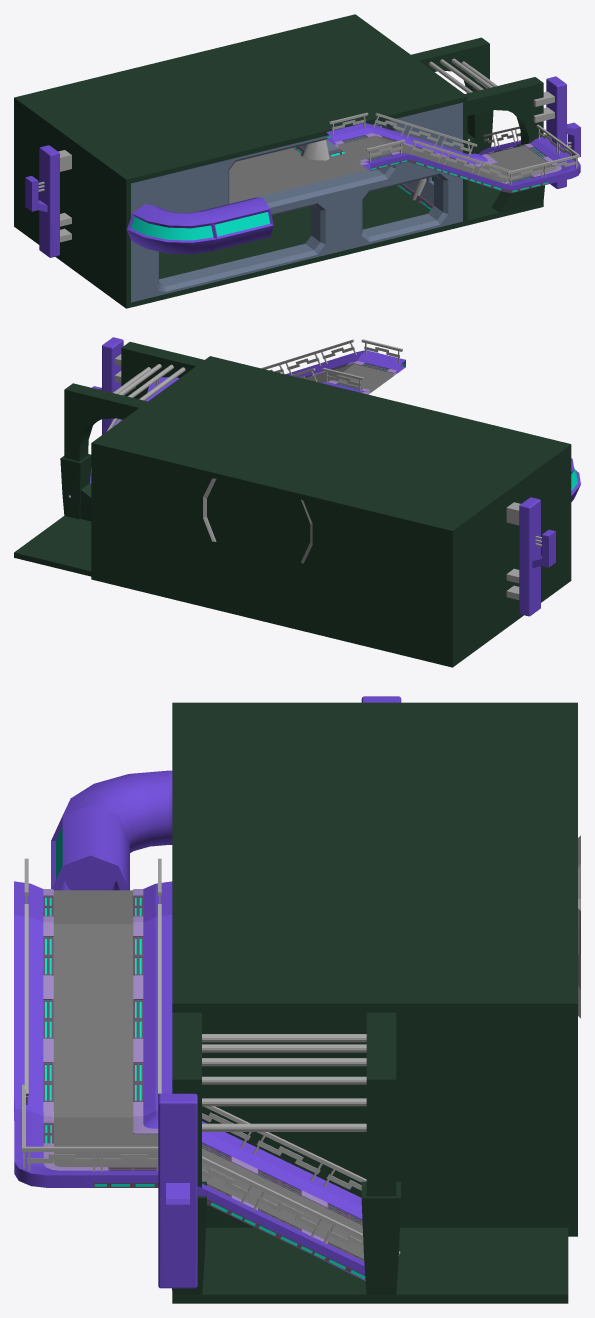
Rendered from Hallway_UV.fbx.
The picture shows the model from 3 angles, top to bottom: view 1: azimuth 30°, elevation 25°; view 2: azimuth 150°, elevation 25°; view 3: azimuth 270°, elevation 25°; orthographic projection. The views are drawn at different scales.
Parts seen in each view (by area): view 1: Hallway_UV; view 2: Hallway_UV; view 3: Hallway_UV.
Boxes of the visible parts, x1,y1,x2,y2 form: Hallway_UV: (14,14,580,308); Hallway_UV: (14,337,580,667); Hallway_UV: (14,696,580,1303).
Size of the model in its own units: 25.98 by 7.06 by 14.33.
